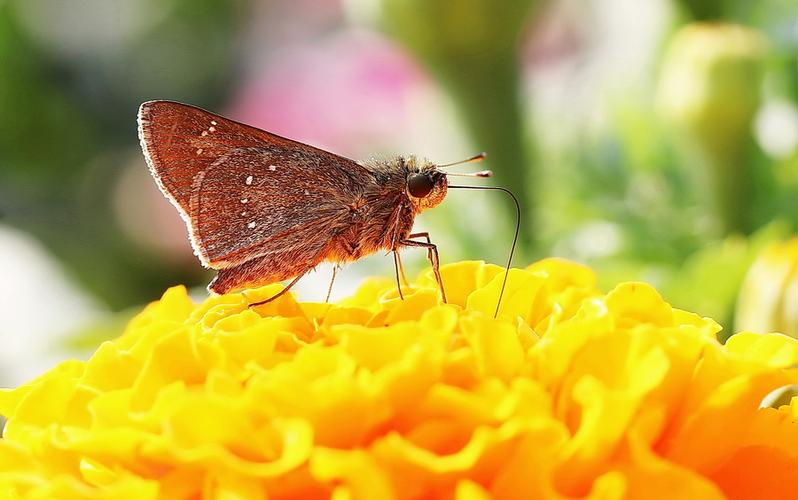Hesperiidae: (133, 96, 523, 301)
